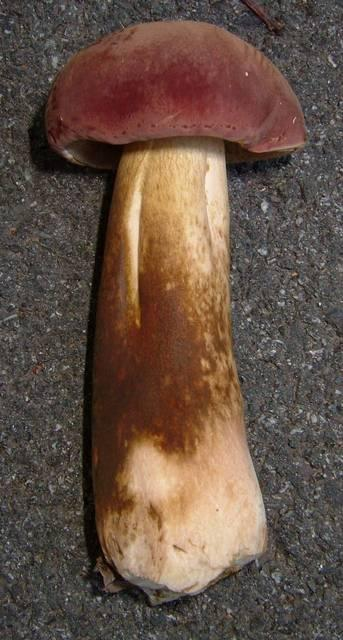poisonous_mushroom: (42, 18, 308, 606)
